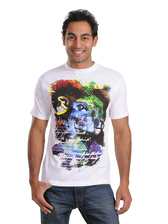clothoes: (29, 62, 133, 190)
